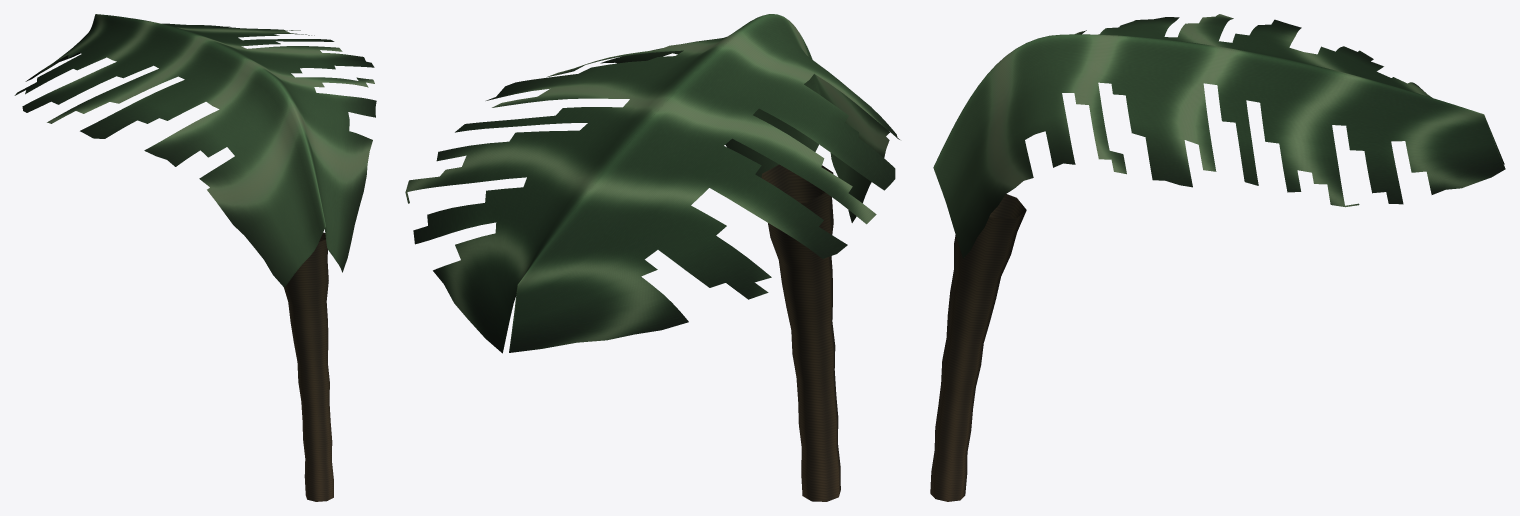
File: Riesenblatt_3.fbx
The picture shows the model from 3 angles, left to right: view 1: azimuth 30°, elevation 25°; view 2: azimuth 150°, elevation 25°; view 3: azimuth 270°, elevation 25°; orthographic projection. The views are drawn at different scales.
Parts seen in each view (by area): view 1: Riesenblatt3; view 2: Riesenblatt3; view 3: Riesenblatt3.
Boxes of the visible parts, x1,y1,x2,y2 form: Riesenblatt3: (14,14,376,501); Riesenblatt3: (405,14,899,501); Riesenblatt3: (930,14,1505,501).
Bounding box in the file's own units: 1.48 × 1.8 × 2.03.
